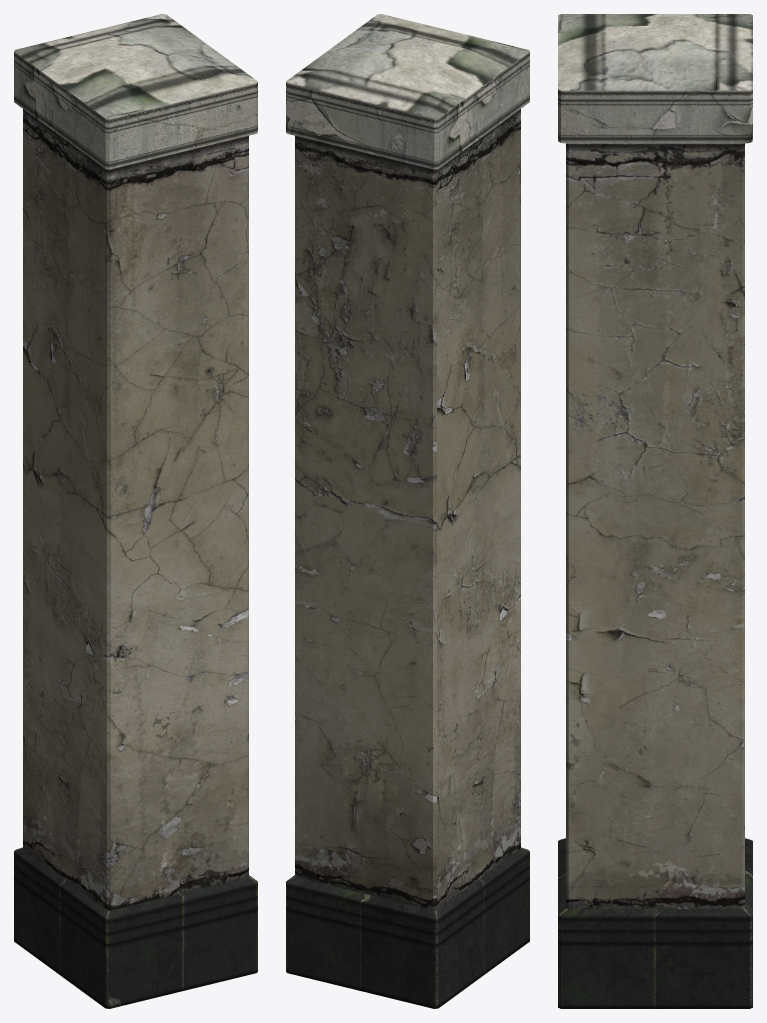
File: urban_damaged_default_post.dae
The picture shows the model from 3 angles, left to right: view 1: azimuth 30°, elevation 25°; view 2: azimuth 150°, elevation 25°; view 3: azimuth 270°, elevation 25°; orthographic projection. The views are drawn at different scales.
Visible parts, largest first — view 1: plaster__2_, trims__2_; view 2: plaster__2_, trims__2_; view 3: plaster__2_, trims__2_.
Part boxes in pixels (x1,y1,x2,y2): plaster__2_: [23, 109, 248, 910]; trims__2_: [14, 14, 257, 1008]; plaster__2_: [295, 109, 520, 910]; trims__2_: [286, 14, 529, 1008]; plaster__2_: [566, 143, 744, 908]; trims__2_: [558, 14, 752, 1008].
Size of the model in its own units: 0.7609 by 4.33 by 0.8175.
